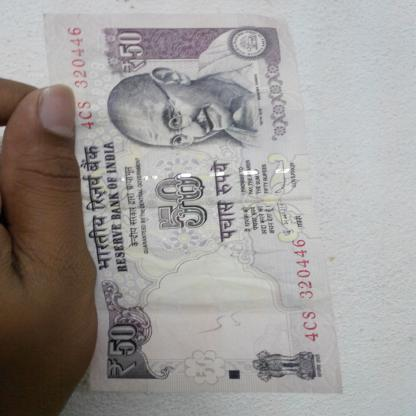Old50Front: (44, 13, 343, 393)
